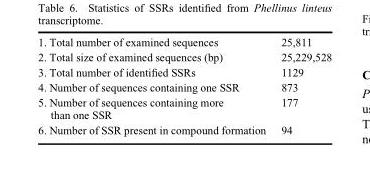table: (37, 37, 331, 135)
table column: (37, 37, 272, 135), (272, 37, 331, 135)
table row: (37, 95, 331, 122), (37, 49, 331, 65), (37, 65, 331, 80), (37, 80, 331, 95), (37, 122, 331, 135), (37, 37, 331, 49)
